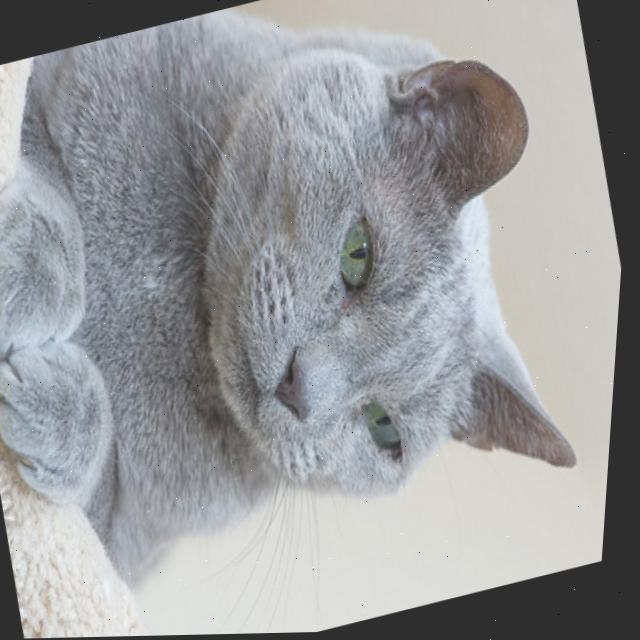Russian Blue: (0, 0, 628, 631)
